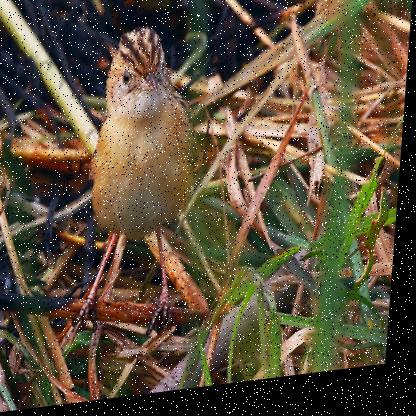Burung: (79, 23, 204, 348)
